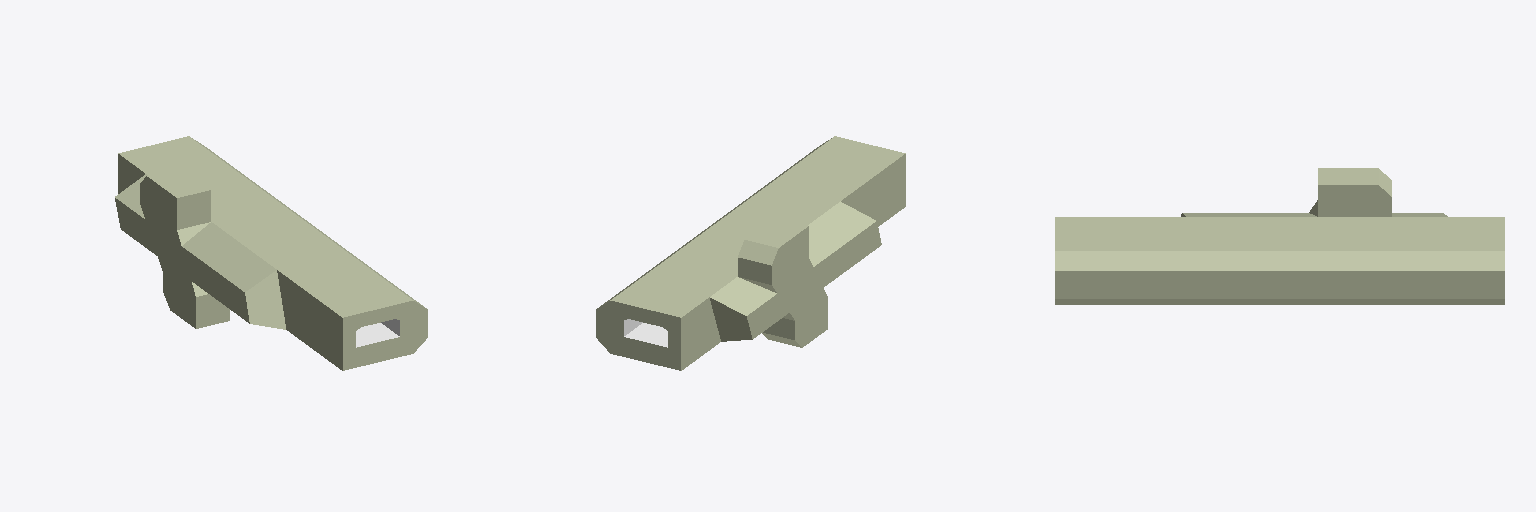
The model's file is carrier_Boxen.obj.
3 views of the same model, side by side, from view 1: azimuth 30°, elevation 25°; view 2: azimuth 150°, elevation 25°; view 3: azimuth 270°, elevation 25° (orthographic).
Visible parts, largest first — view 1: Hull, Hanger; view 2: Hull, Hanger; view 3: Hull.
Boxes of the visible parts, x1=… form: Hull: x1=115, y1=136, x2=427, y2=370; Hanger: x1=356, y1=319, x2=399, y2=347; Hull: x1=596, y1=136, x2=905, y2=370; Hanger: x1=624, y1=319, x2=667, y2=347; Hull: x1=1055, y1=168, x2=1504, y2=304.
Size of the model in its own units: 31.77 by 29.63 by 103.